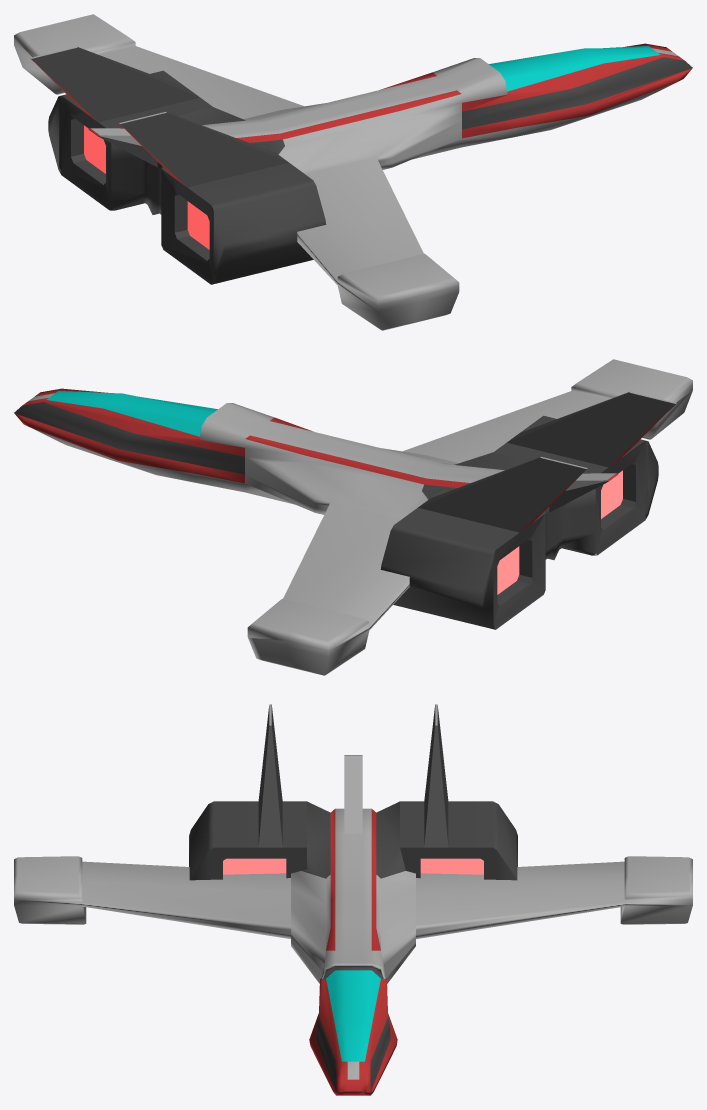
File: AirRaid.fbx
3 renders of one model, top to bottom at view 1: azimuth 30°, elevation 25°; view 2: azimuth 150°, elevation 25°; view 3: azimuth 270°, elevation 25°, orthographic. The views are drawn at different scales.
Visible parts, largest first — view 1: pCube1; view 2: pCube1; view 3: pCube1.
Boxes of the visible parts, x1,y1,x2,y2 form: pCube1: (14, 14, 692, 330); pCube1: (14, 359, 692, 675); pCube1: (14, 704, 692, 1095).
Size of the model in its own units: 11.91 by 2.88 by 12.35.
